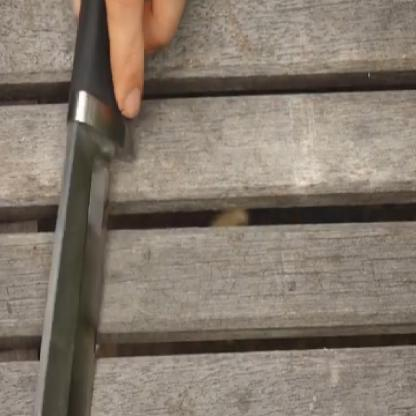knife: (18, 0, 195, 415)
